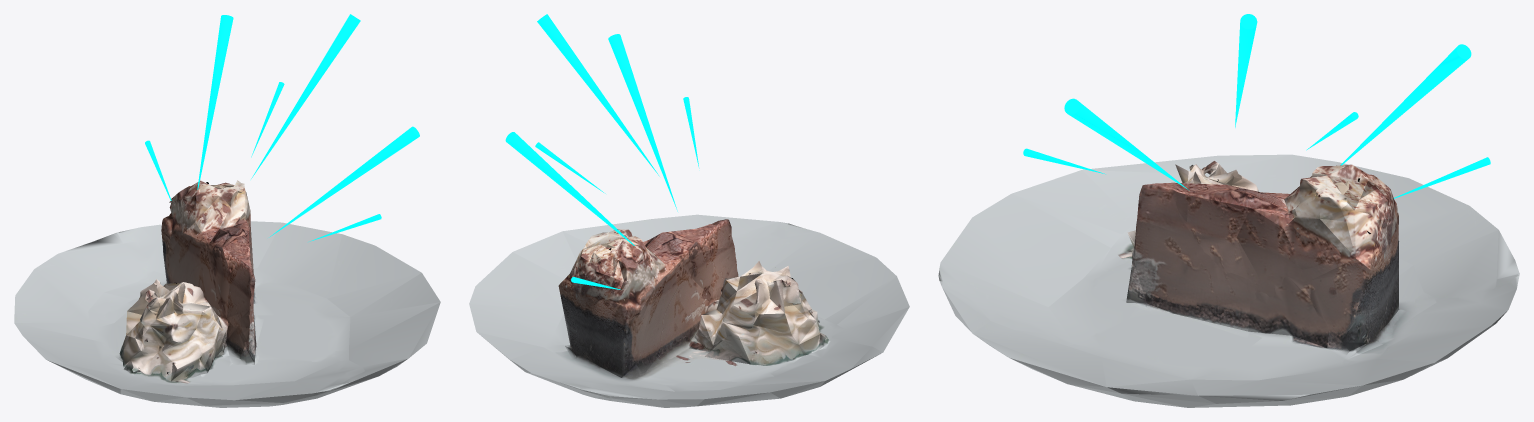
The model's file is Cake.fbx.
3 views of the same model, side by side, from view 1: azimuth 30°, elevation 25°; view 2: azimuth 150°, elevation 25°; view 3: azimuth 270°, elevation 25° (orthographic). The views are drawn at different scales.
Visible parts, largest first — view 1: poly10k, cones1; view 2: poly10k, cones1; view 3: poly10k, cones1.
Part boxes in pixels (<box>): poly10k: <box>14,180,440,407</box>; cones1: <box>145,14,419,241</box>; poly10k: <box>469,214,909,407</box>; cones1: <box>505,14,699,289</box>; poly10k: <box>938,154,1519,407</box>; cones1: <box>1023,14,1490,198</box>.
Size of the model in its own units: 2.24 by 1.76 by 2.26.
Materials: 2 (1 with a texture image).
